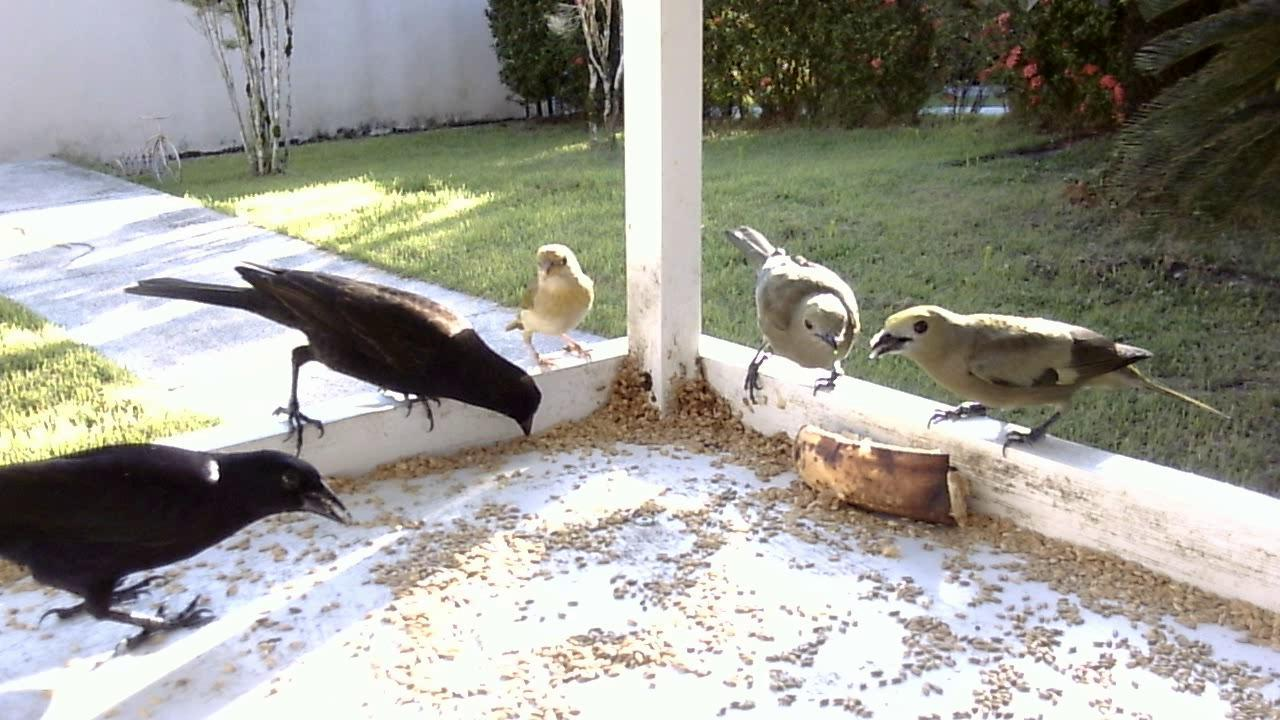canario_do_amazonas: (501, 241, 603, 374)
chupim: (110, 250, 558, 467), (6, 428, 357, 666)
sanhaco_do_coqueiro: (854, 294, 1202, 460), (710, 226, 865, 404)
